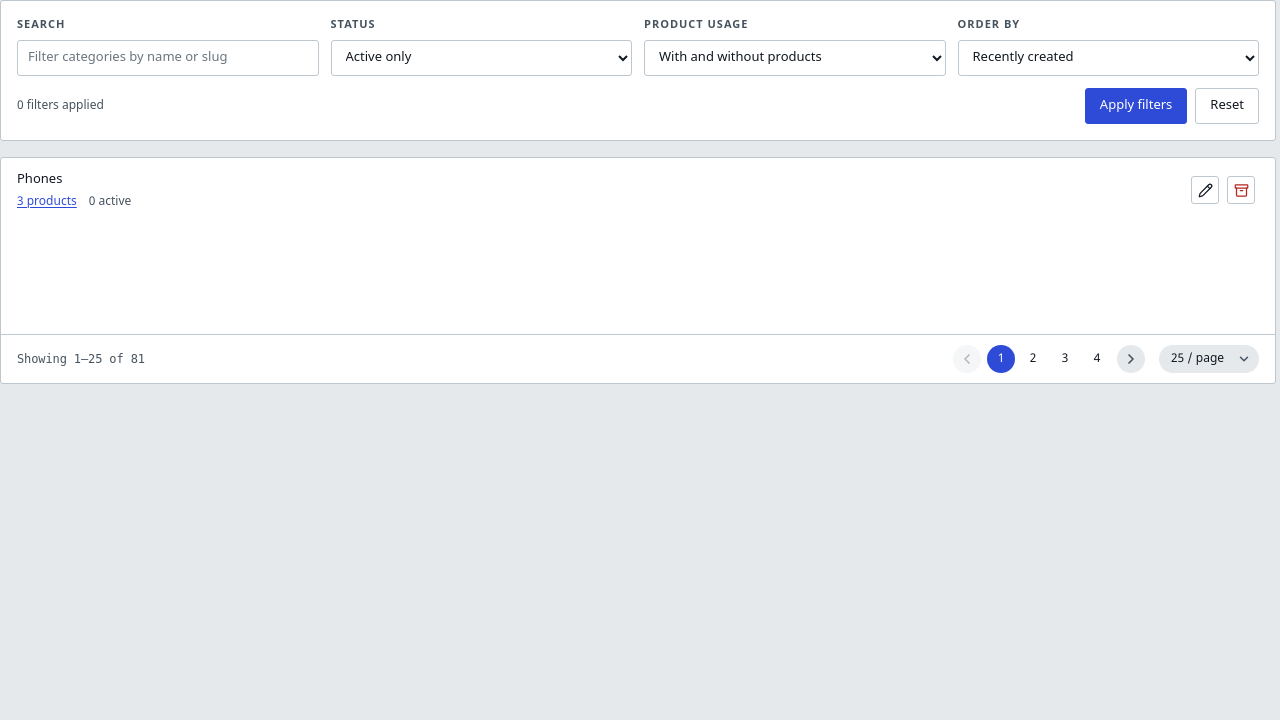
Test: announces removal after its row disappears and preserves archived product links
Click the button named "Remove Phones".
click(1241, 190)  # box 1227,176 -> 1255,204
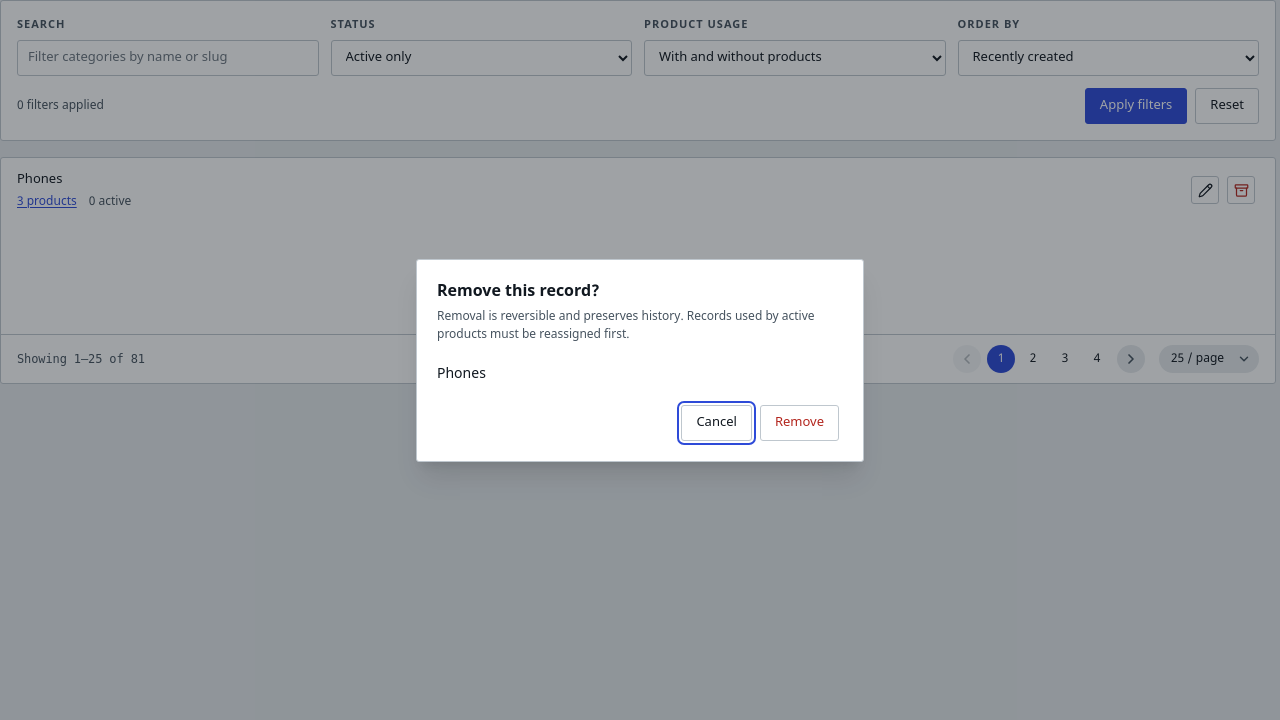
Click the button "Remove".
click(799, 422)  # box 760,404 -> 839,440
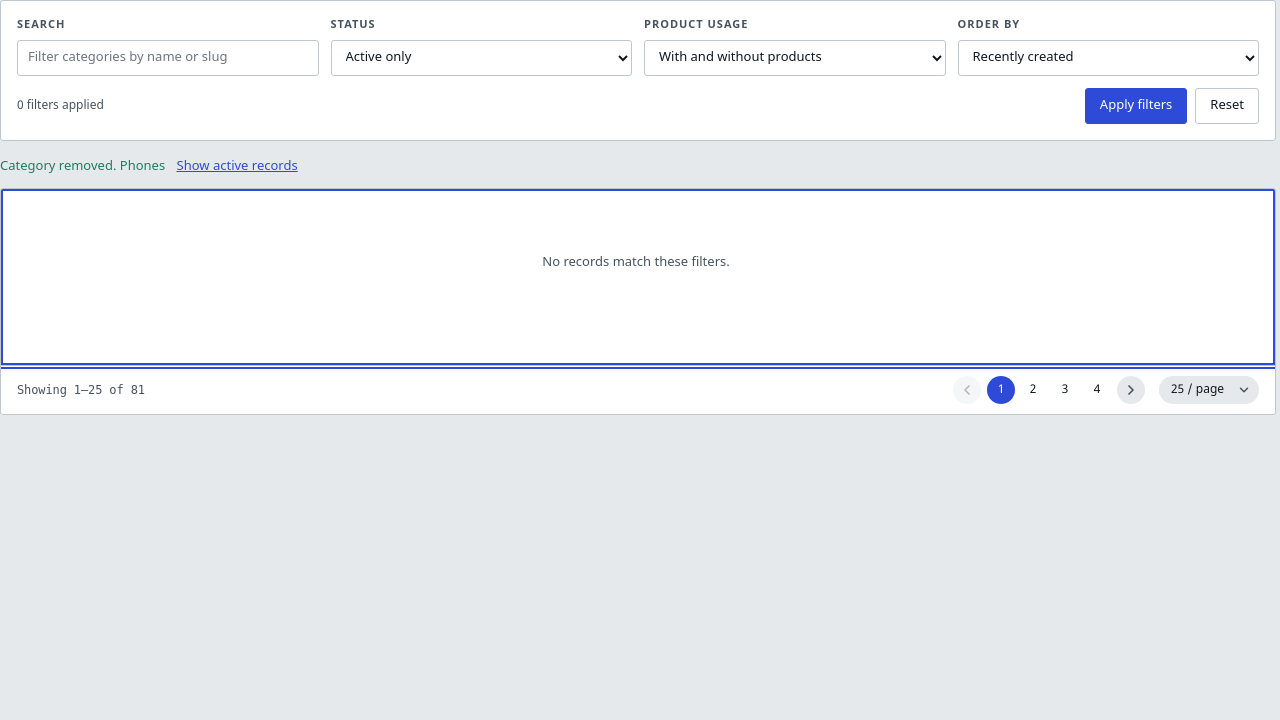
Result: the dialog is gone
Result: the text "Category removed. Phones" is shown at 0,158 -> 165,174
